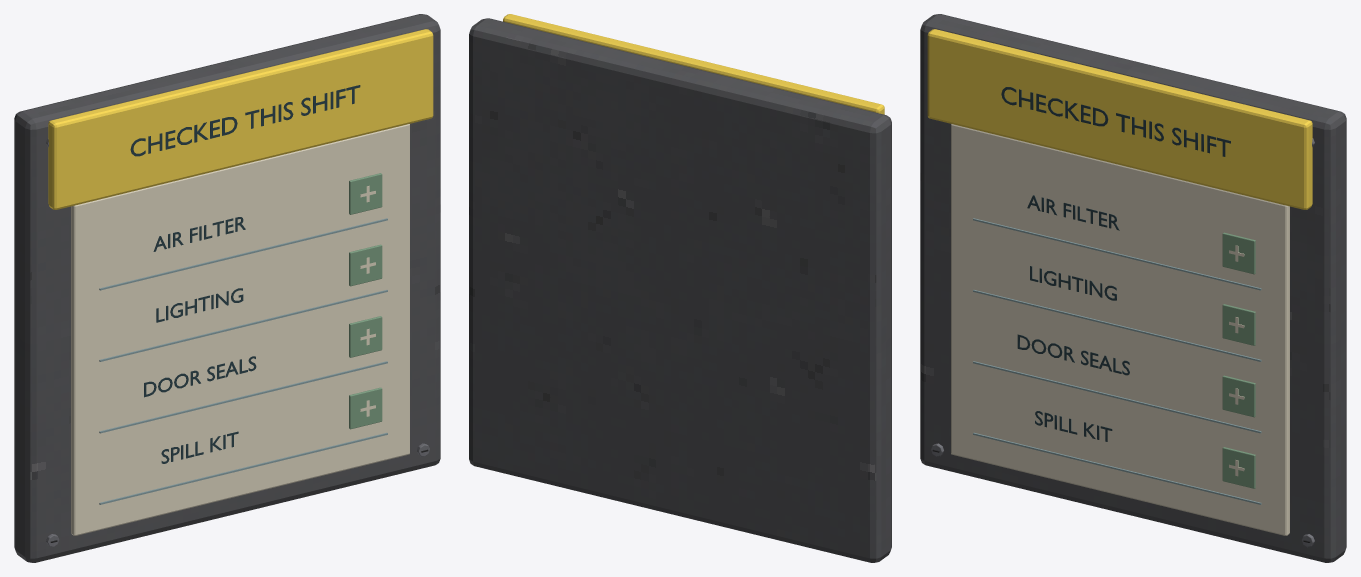
The model's file is lbd_maintenance_signoff.glb.
The picture shows the model from 3 angles, left to right: view 1: azimuth 30°, elevation 25°; view 2: azimuth 150°, elevation 25°; view 3: azimuth 330°, elevation 25°; orthographic projection.
Visible parts, largest first — view 1: maintenance_signoff__form_022, maintenance_signoff__mount_003, maintenance_signoff__header_025, maintenance_signoff__text_028_export, maintenance_signoff__check field_070, maintenance_signoff__check field_046, maintenance_signoff__check field_058, maintenance_signoff__check field_034, maintenance_signoff__row rule_040, maintenance_signoff__row rule_064, maintenance_signoff__row rule_052, maintenance_signoff__row rule_076 (+4 smaller); view 2: maintenance_signoff__mount_003, maintenance_signoff__header_025; view 3: maintenance_signoff__form_022, maintenance_signoff__mount_003, maintenance_signoff__header_025, maintenance_signoff__text_028_export, maintenance_signoff__check field_058, maintenance_signoff__check field_070, maintenance_signoff__check field_034, maintenance_signoff__check field_046, maintenance_signoff__row rule_040, maintenance_signoff__row rule_064, maintenance_signoff__row rule_052, maintenance_signoff__row rule_076 (+4 smaller).
Boxes of the visible parts, left/top/right/bottom form: maintenance_signoff__form_022: left=71, top=124, right=409, bottom=535; maintenance_signoff__mount_003: left=14, top=14, right=440, bottom=562; maintenance_signoff__header_025: left=48, top=29, right=433, bottom=209; maintenance_signoff__text_028_export: left=130, top=85, right=360, bottom=156; maintenance_signoff__check field_070: left=349, top=387, right=382, bottom=429; maintenance_signoff__check field_046: left=349, top=244, right=382, bottom=286; maintenance_signoff__check field_058: left=349, top=316, right=382, bottom=357; maintenance_signoff__check field_034: left=349, top=173, right=382, bottom=214; maintenance_signoff__row rule_040: left=99, top=218, right=387, bottom=290; maintenance_signoff__row rule_064: left=99, top=361, right=387, bottom=433; maintenance_signoff__row rule_052: left=99, top=290, right=387, bottom=361; maintenance_signoff__row rule_076: left=99, top=432, right=387, bottom=504; maintenance_signoff__mount_003: left=469, top=18, right=891, bottom=562; maintenance_signoff__header_025: left=503, top=14, right=884, bottom=114; maintenance_signoff__form_022: left=951, top=124, right=1289, bottom=535; maintenance_signoff__mount_003: left=920, top=14, right=1346, bottom=562; maintenance_signoff__header_025: left=927, top=29, right=1312, bottom=209; maintenance_signoff__text_028_export: left=1001, top=87, right=1230, bottom=156; maintenance_signoff__check field_058: left=1222, top=375, right=1255, bottom=417; maintenance_signoff__check field_070: left=1222, top=447, right=1255, bottom=488; maintenance_signoff__check field_034: left=1222, top=232, right=1255, bottom=274; maintenance_signoff__check field_046: left=1222, top=304, right=1255, bottom=345; maintenance_signoff__row rule_040: left=973, top=218, right=1261, bottom=290; maintenance_signoff__row rule_064: left=973, top=361, right=1261, bottom=433; maintenance_signoff__row rule_052: left=973, top=290, right=1261, bottom=361; maintenance_signoff__row rule_076: left=973, top=432, right=1261, bottom=504.
Bounding box in the file's own units: 0.85 × 0.87 × 0.0995.
Materials: 8 (3 with a texture image).
